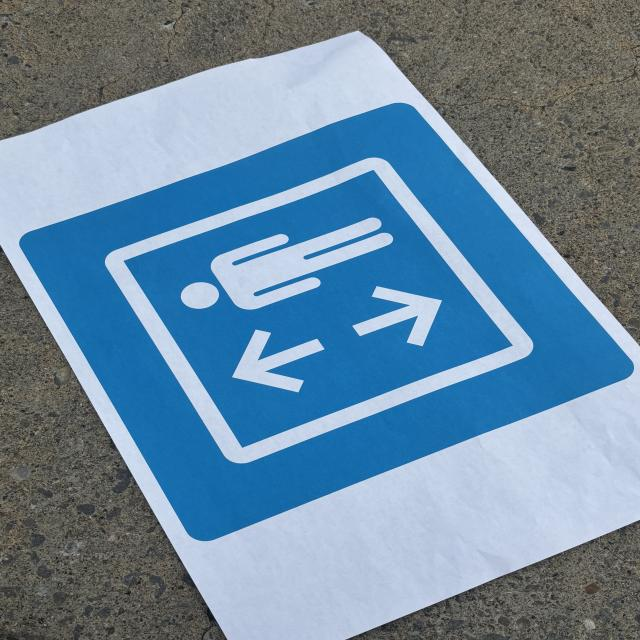elevator: (16, 105, 639, 548)
